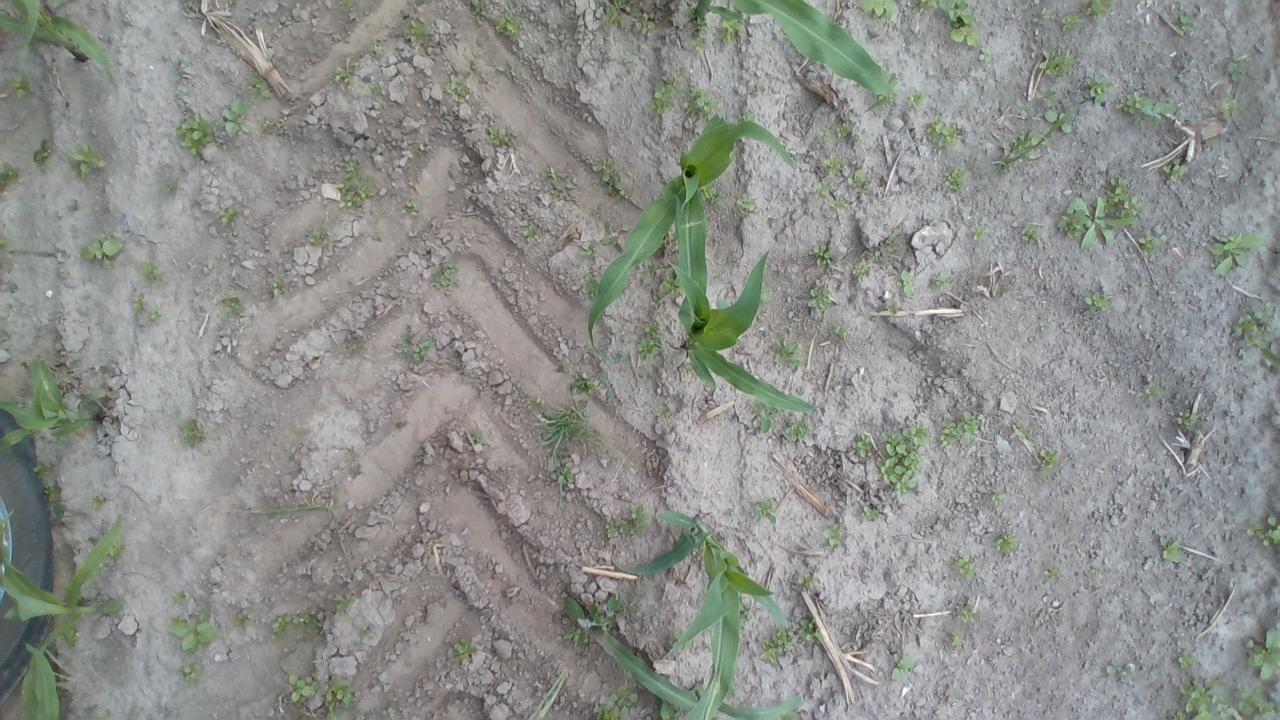Maize: (582, 107, 798, 364), (624, 500, 788, 720), (659, 250, 828, 424), (582, 620, 811, 720), (700, 0, 896, 107), (2, 514, 132, 672), (0, 352, 119, 452), (0, 0, 117, 85), (0, 642, 69, 720)
Weeds: (234, 485, 360, 580), (1054, 176, 1147, 252), (1169, 676, 1280, 720), (528, 402, 614, 458), (876, 417, 934, 500), (994, 120, 1056, 173), (589, 684, 672, 720), (332, 157, 382, 213), (1205, 231, 1263, 278), (939, 0, 987, 56), (164, 610, 222, 656), (264, 606, 325, 648), (29, 458, 68, 522), (1236, 301, 1280, 356), (644, 66, 690, 117), (566, 592, 620, 634), (643, 258, 684, 313), (589, 153, 635, 202), (170, 108, 213, 160), (1114, 90, 1181, 122), (214, 93, 256, 144), (319, 674, 362, 720), (536, 162, 578, 208), (934, 412, 986, 449), (566, 370, 626, 402), (74, 230, 124, 268), (1038, 89, 1078, 136), (538, 461, 590, 497), (575, 222, 630, 256), (1243, 631, 1280, 681), (66, 140, 110, 182), (1244, 507, 1280, 556), (924, 113, 967, 153), (606, 503, 650, 542), (396, 15, 438, 55), (242, 67, 282, 106), (483, 120, 531, 152), (1152, 532, 1192, 570), (494, 6, 534, 44), (338, 444, 372, 486), (389, 327, 431, 360), (172, 412, 210, 448), (1038, 44, 1078, 75), (597, 0, 638, 30), (1078, 70, 1112, 106), (792, 614, 829, 647), (330, 589, 362, 626), (942, 163, 973, 201), (1076, 0, 1118, 28), (215, 286, 249, 320), (284, 672, 318, 706), (771, 335, 804, 370), (632, 320, 662, 358), (1222, 53, 1251, 92), (761, 624, 790, 662), (151, 174, 189, 203), (300, 226, 338, 255), (134, 260, 172, 289), (1102, 658, 1136, 690), (684, 86, 716, 120), (748, 398, 778, 434), (444, 68, 469, 110), (718, 9, 744, 48), (232, 604, 260, 640), (174, 660, 210, 688), (819, 518, 850, 550), (950, 550, 980, 583), (1080, 290, 1116, 317), (428, 258, 460, 288), (1166, 12, 1202, 38), (1034, 446, 1064, 477), (806, 277, 834, 310), (750, 497, 779, 528), (10, 67, 36, 101), (1171, 407, 1206, 432), (804, 241, 834, 270), (1133, 228, 1164, 256), (399, 194, 428, 223), (845, 168, 872, 199), (256, 111, 287, 138), (451, 636, 477, 668), (1161, 155, 1191, 182), (994, 529, 1020, 560), (888, 652, 913, 684), (848, 429, 875, 458), (784, 412, 810, 442), (1212, 92, 1240, 119), (931, 272, 962, 296), (266, 276, 292, 304), (816, 117, 849, 139), (330, 55, 352, 88), (29, 140, 56, 166), (906, 88, 931, 116), (896, 267, 917, 300), (342, 335, 372, 358), (632, 11, 656, 39), (651, 402, 679, 426), (1018, 223, 1047, 246), (688, 19, 708, 52), (469, 0, 495, 25), (218, 201, 244, 226), (796, 569, 822, 594), (1010, 417, 1034, 444), (865, 0, 902, 17), (879, 228, 903, 253), (819, 151, 844, 175), (1086, 561, 1112, 584), (1138, 379, 1161, 404), (0, 158, 22, 184), (956, 600, 977, 627), (850, 258, 873, 282), (736, 193, 758, 218), (984, 486, 1010, 507), (1056, 14, 1083, 34), (810, 177, 833, 200), (1176, 648, 1200, 669), (1042, 567, 1068, 586), (360, 42, 386, 61), (582, 276, 604, 298), (128, 292, 146, 318), (909, 0, 940, 15), (466, 426, 488, 447), (90, 493, 110, 516), (826, 195, 848, 215), (700, 184, 724, 202), (368, 79, 386, 103), (830, 321, 851, 341), (944, 628, 963, 650), (411, 444, 434, 462), (526, 392, 544, 414), (522, 222, 544, 240), (1036, 316, 1055, 336), (168, 587, 189, 605), (972, 224, 994, 241), (146, 302, 163, 324), (1037, 7, 1057, 25), (976, 48, 994, 68), (886, 300, 904, 320), (860, 506, 884, 521), (333, 0, 360, 12)
